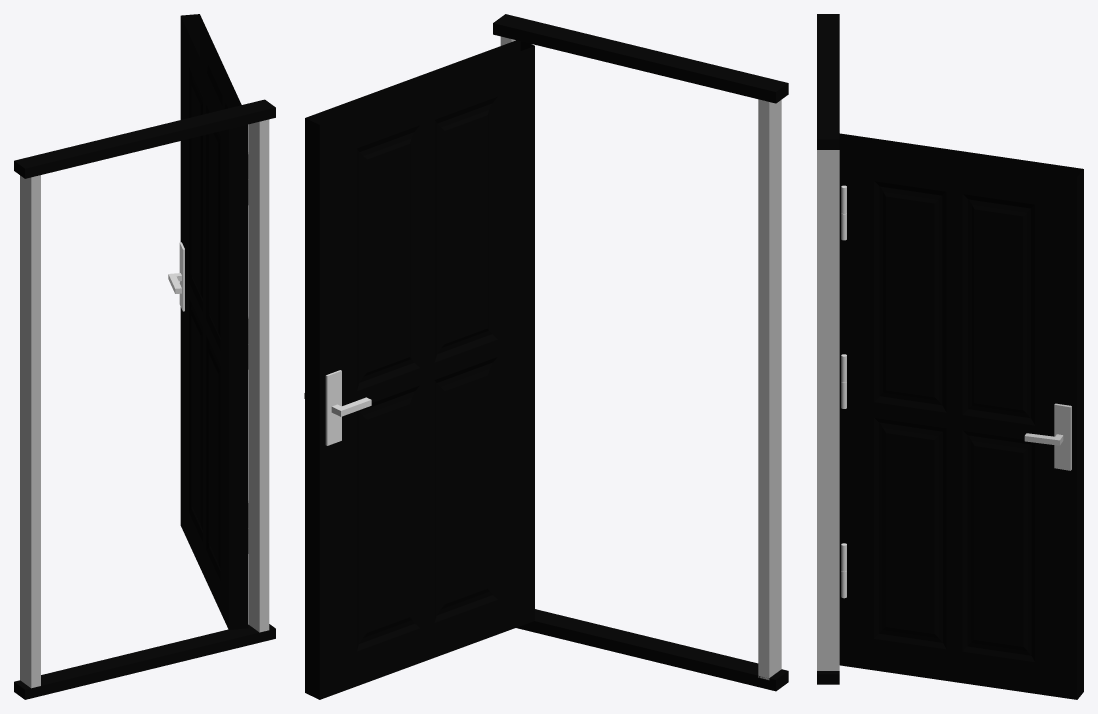
File: Door.fbx
3 views of the same model, side by side, from view 1: azimuth 30°, elevation 25°; view 2: azimuth 150°, elevation 25°; view 3: azimuth 270°, elevation 25° (orthographic). The views are drawn at different scales.
Visible parts, largest first — view 1: Door, Cube.003, Cube.004, Cube.002, Cube.001; view 2: Door, Cube.004, Cube.002, Cube.001, handle; view 3: Door, Cube.003, Cube.002, handle.001.
Boxes of the visible parts, <box> form: Door: <box>180,14,248,629</box>; Cube.003: <box>248,119,269,632</box>; Cube.004: <box>20,175,40,688</box>; Cube.002: <box>14,99,275,178</box>; Cube.001: <box>14,624,275,699</box>; Door: <box>305,40,534,699</box>; Cube.004: <box>758,99,781,679</box>; Cube.002: <box>493,14,788,103</box>; Cube.001: <box>516,609,788,691</box>; handle: <box>325,370,341,445</box>; Door: <box>839,133,1083,699</box>; Cube.003: <box>817,150,839,670</box>; Cube.002: <box>817,14,839,149</box>; handle.001: <box>1054,403,1071,470</box>.
Size of the model in its own units: 255 by 417 by 185.
